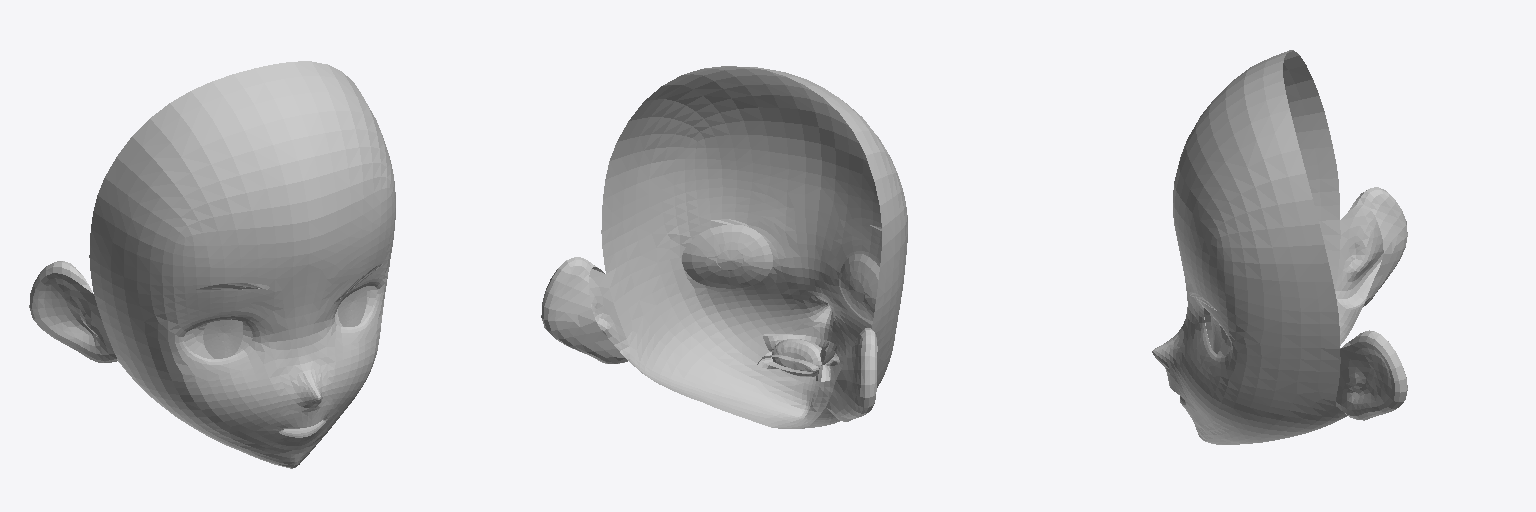
The model's file is browDownLeft.obj.
3 renders of one model, left to right at view 1: azimuth 30°, elevation 25°; view 2: azimuth 150°, elevation 25°; view 3: azimuth 270°, elevation 25°, orthographic.
Parts seen in each view (by area): view 1: Face; view 2: Face; view 3: Face.
Boxes of the visible parts, x1=… form: Face: x1=29, y1=61, x2=395, y2=468; Face: x1=541, y1=66, x2=907, y2=428; Face: x1=1152, y1=50, x2=1407, y2=444.
Bounding box in the file's own units: 0.2176 × 0.2333 × 0.1449.